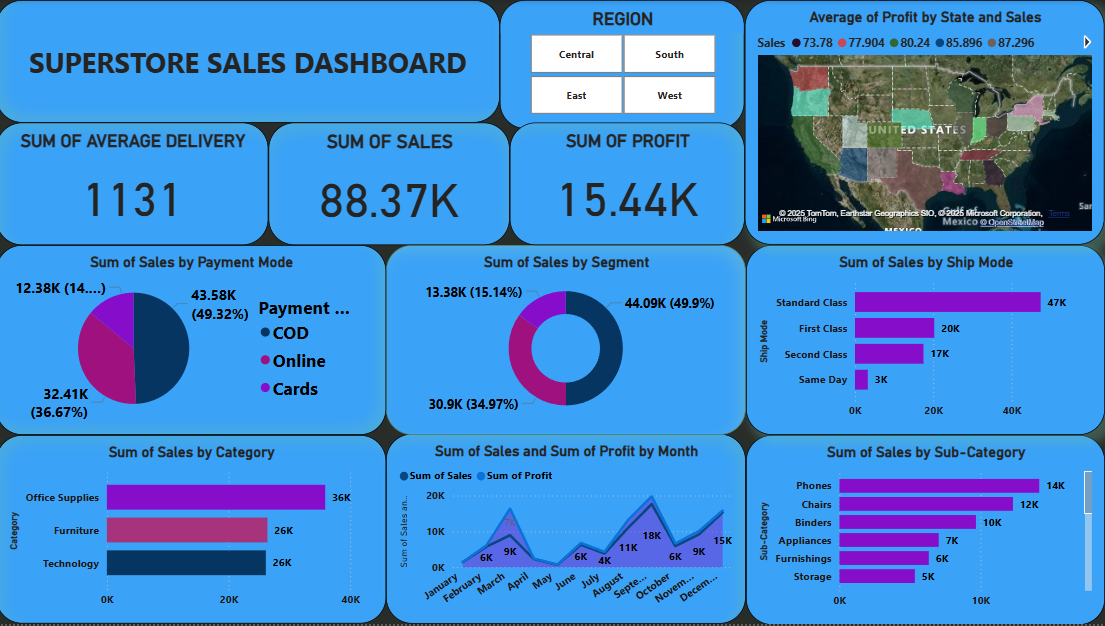

This screenshot's page, from the dashboard's own definition file:
{"tool":"powerbi","page":{"name":"Page 1","canvas":[1280,720],"ordinal":0},"visuals":[{"type":"clusteredBarChart","fields":{"Category":["SuperStore_Sales_Dataset.Category"],"Y":["Sum(SuperStore_Sales_Dataset.Sales)"]},"box":[0,502.1,450.1,217.9],"z":0},{"type":"clusteredBarChart","fields":{"Y":["Sum(SuperStore_Sales_Dataset.Sales)"],"Category":["SuperStore_Sales_Dataset.Sub-Category"]},"box":[865,501.9,414.7,218.9],"z":1000},{"type":"barChart","fields":{"Category":["SuperStore_Sales_Dataset.Ship Mode"],"Y":["Sum(SuperStore_Sales_Dataset.Sales)"]},"box":[865,283,414.7,218.9],"z":2000},{"type":"stackedAreaChart","fields":{"Category":["SuperStore_Sales_Dataset.Order Date.Variation.Date Hierarchy.Month","SuperStore_Sales_Dataset.Order Date.Variation.Date Hierarchy.Day"],"Y":["Sum(SuperStore_Sales_Dataset.Sales)","Sum(SuperStore_Sales_Dataset.Profit)"]},"box":[450.1,500.6,415.5,219.3],"z":3000},{"type":"filledMap","fields":{"Category":["SuperStore_Sales_Dataset.State"],"Series":["SuperStore_Sales_Dataset.Sales"],"Y":["Avg(SuperStore_Sales_Dataset.Profit)"]},"box":[864.2,0,415.5,282.8],"z":4000},{"type":"donutChart","fields":{"Category":["SuperStore_Sales_Dataset.Segment"],"Y":["Sum(SuperStore_Sales_Dataset.Sales)"]},"box":[450.1,282.8,415.5,219.3],"z":5000},{"type":"pieChart","fields":{"Category":["SuperStore_Sales_Dataset.Payment Mode"],"Y":["Sum(SuperStore_Sales_Dataset.Sales)"]},"box":[0,282.8,450.1,219.3],"z":6000},{"type":"slicer","title":"REGION","fields":{"Values":["SuperStore_Sales_Dataset.Region"]},"box":[581.4,0,282.8,148.6],"z":7000},{"type":"card","title":"SUM OF SALES","fields":{"Values":["Sum(SuperStore_Sales_Dataset.Sales)"]},"box":[314.5,141.4,278.5,141.4],"z":8000},{"type":"card","title":"SUM OF PROFIT","fields":{"Values":["Sum(SuperStore_Sales_Dataset.Profit)"]},"box":[593,141.4,271.2,141.4],"z":9000},{"type":"card","title":"SUM OF AVERAGE DELIVERY ","fields":{"Values":["Sum(SuperStore_Sales_Dataset.Average Delivery)"]},"box":[0,141.4,314.5,141.4],"z":10000},{"type":"textbox","box":[0,0,581.4,141.4],"z":11000}]}

Visuals, with their boxes in screenshot pixels (x1, y1, x2, y2), scaled from the page's 1280x720 canvas onto the 1105x626 screenshot:
clusteredBarChart - SuperStore_Sales_Dataset.Category x Sum(SuperStore_Sales_Dataset.Sales): 0,437,389,625
clusteredBarChart - Sum(SuperStore_Sales_Dataset.Sales) x SuperStore_Sales_Dataset.Sub-Category: 747,436,1104,625
barChart - SuperStore_Sales_Dataset.Ship Mode x Sum(SuperStore_Sales_Dataset.Sales): 747,246,1104,436
stackedAreaChart - SuperStore_Sales_Dataset.Order Date.Variation.Date Hierarchy.Month x SuperStore_Sales_Dataset.Order Date.Variation.Date Hierarchy.Day: 389,435,747,625
filledMap - SuperStore_Sales_Dataset.State x SuperStore_Sales_Dataset.Sales: 746,0,1104,246
donutChart - SuperStore_Sales_Dataset.Segment x Sum(SuperStore_Sales_Dataset.Sales): 389,246,747,437
pieChart - SuperStore_Sales_Dataset.Payment Mode x Sum(SuperStore_Sales_Dataset.Sales): 0,246,389,437
"REGION" slicer: 502,0,746,129
"SUM OF SALES" card: 272,123,512,246
"SUM OF PROFIT" card: 512,123,746,246
"SUM OF AVERAGE DELIVERY " card: 0,123,272,246
textbox: 0,0,502,123
